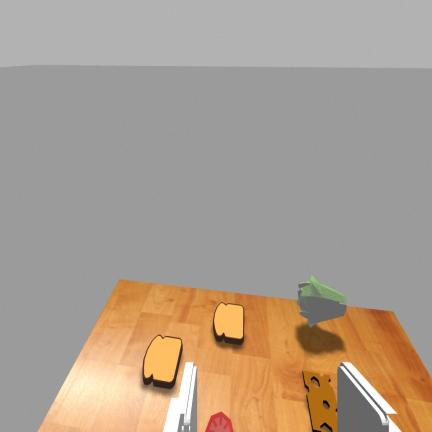cheese: (303, 371, 336, 431)
lettuce: (297, 276, 346, 326)
sliced_bread: (143, 335, 182, 388), (214, 303, 244, 344)
sliced_tomato: (206, 412, 233, 431)
